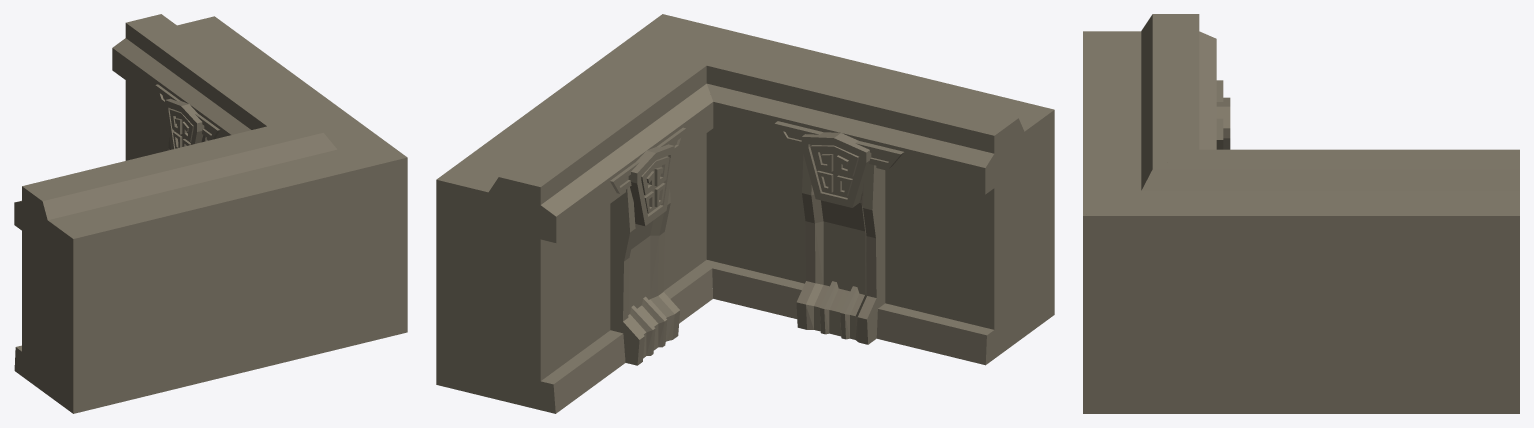
Rendered from TempleFrameA_C.fbx.
3 views of the same model, side by side, from view 1: azimuth 30°, elevation 25°; view 2: azimuth 150°, elevation 25°; view 3: azimuth 270°, elevation 25° (orthographic). The views are drawn at different scales.
Parts seen in each view (by area): view 1: TempleFrameA_C01, TempleFrameA_C02; view 2: TempleFrameA_C01, TempleFrameA_C02; view 3: TempleFrameA_C01, TempleFrameA_C02.
Boxes of the visible parts, x1,y1,x2,y2 form: TempleFrameA_C01: [14, 14, 407, 413]; TempleFrameA_C02: [155, 84, 219, 150]; TempleFrameA_C01: [436, 14, 1054, 413]; TempleFrameA_C02: [610, 121, 903, 365]; TempleFrameA_C01: [1083, 14, 1519, 413]; TempleFrameA_C02: [1216, 80, 1230, 149].
Size of the model in its own units: 400 by 217 by 400.
